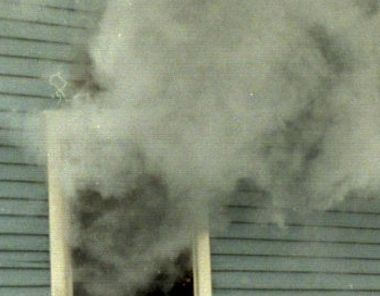smoke: (1, 4, 372, 296)
